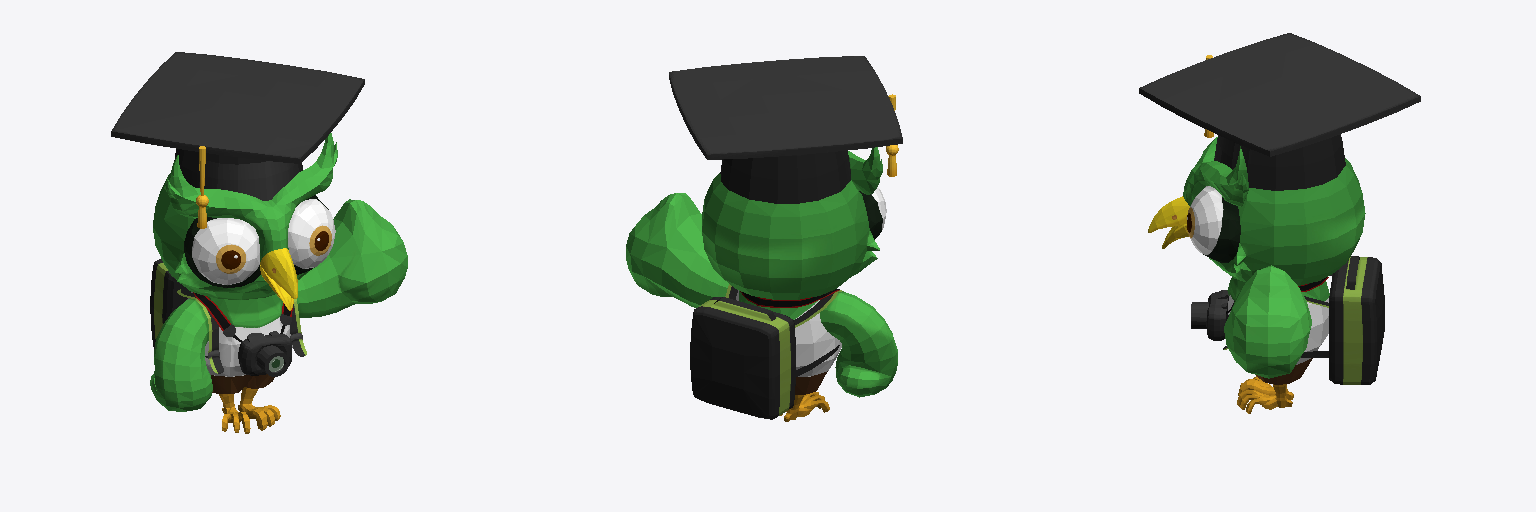
The picture shows the model from 3 angles: view 1: azimuth 30°, elevation 25°; view 2: azimuth 150°, elevation 25°; view 3: azimuth 270°, elevation 25°; orthographic projection.
Parts seen in each view (by area): view 1: polySurface74; view 2: polySurface74; view 3: polySurface74.
Boxes of the visible parts, x1=… form: polySurface74: x1=111, y1=52, x2=407, y2=433; polySurface74: x1=626, y1=56, x2=902, y2=421; polySurface74: x1=1139, y1=33, x2=1420, y2=413.
Bounding box in the file's own units: 16.18 × 17.43 × 14.11.
1 materials, 1 textured.